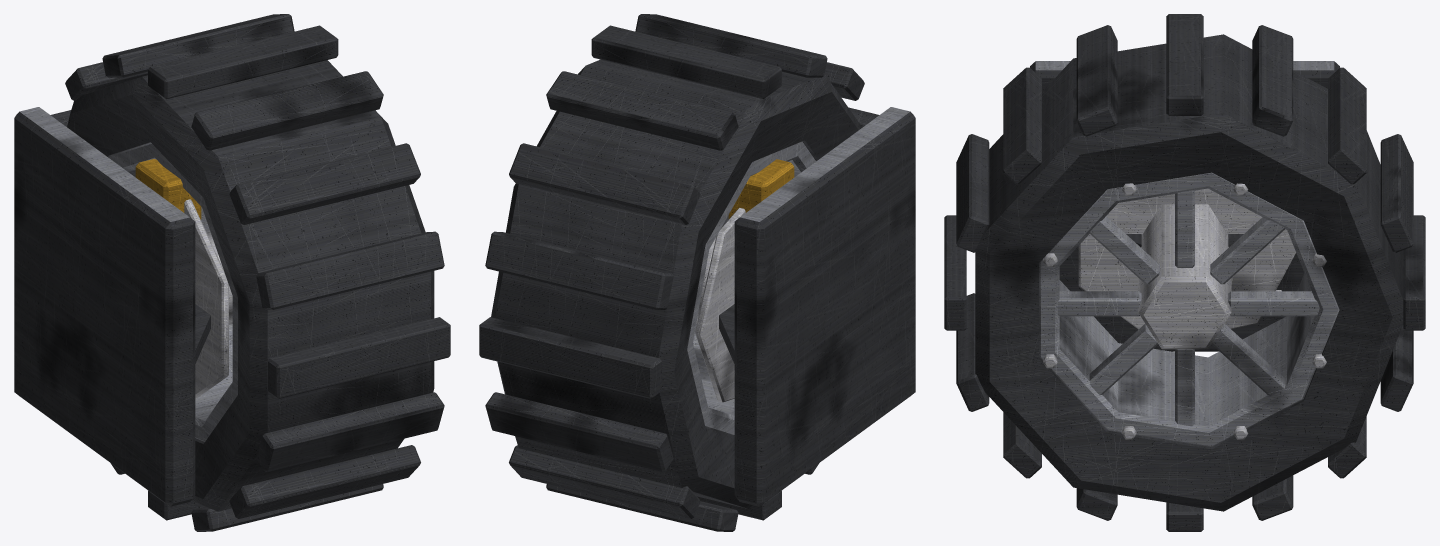
The model's file is R4M_WheelM_Side_Offroad_LOD1.glb.
The picture shows the model from 3 angles, left to right: view 1: azimuth 30°, elevation 25°; view 2: azimuth 150°, elevation 25°; view 3: azimuth 270°, elevation 25°; orthographic projection.
Visible parts, largest first — view 1: R4M_WheelM_Side_Offroad_LOD1; view 2: R4M_WheelM_Side_Offroad_LOD1; view 3: R4M_WheelM_Side_Offroad_LOD1.
Part boxes in pixels (x1,y1,x2,y2): R4M_WheelM_Side_Offroad_LOD1: [14, 14, 450, 531]; R4M_WheelM_Side_Offroad_LOD1: [479, 14, 915, 531]; R4M_WheelM_Side_Offroad_LOD1: [944, 14, 1425, 531].
Size of the model in its own units: 0.452 by 0.776 by 0.776.
4 materials, 4 textured.
